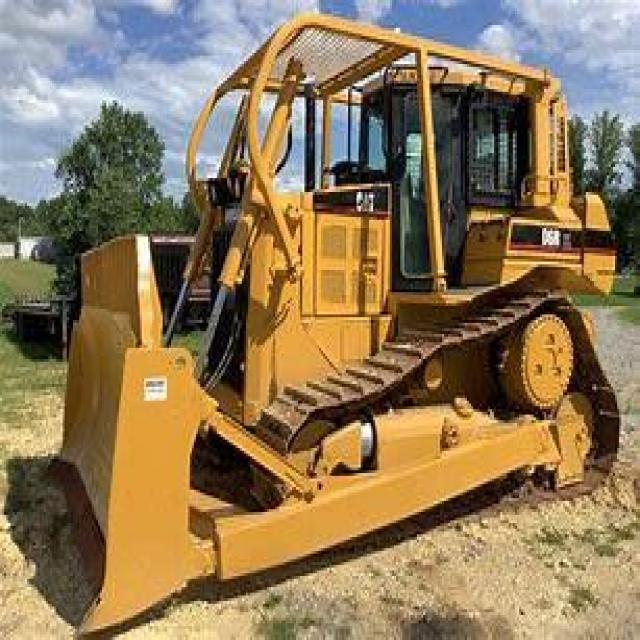Bulldozer: (36, 14, 632, 637)
